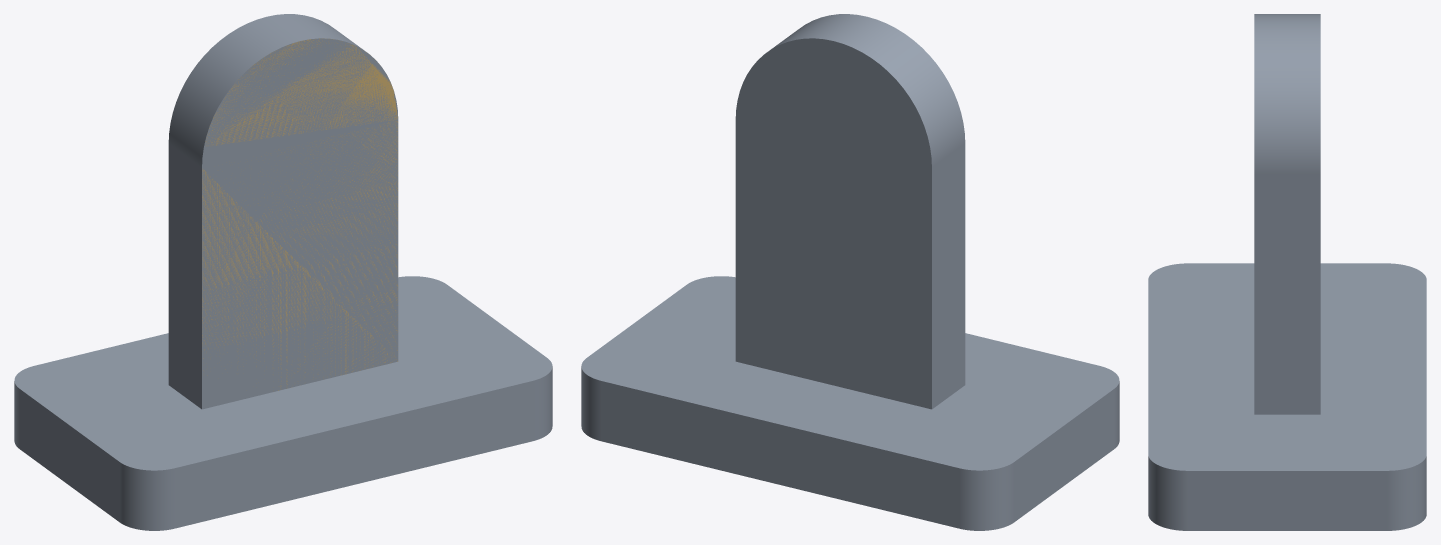
The model's file is step_03.glb.
The picture shows the model from 3 angles, left to right: view 1: azimuth 30°, elevation 25°; view 2: azimuth 150°, elevation 25°; view 3: azimuth 270°, elevation 25°; orthographic projection.
Parts seen in each view (by area): view 1: part__pedestal bearing, overlay; view 2: part__pedestal bearing; view 3: part__pedestal bearing.
Boxes of the visible parts, x1,y1,x2,y2 form: part__pedestal bearing: (14,14,552,530); overlay: (202,38,398,390); part__pedestal bearing: (581,14,1119,530); part__pedestal bearing: (1148,14,1426,530).
Size of the model in its own units: 74 by 67 by 42.
